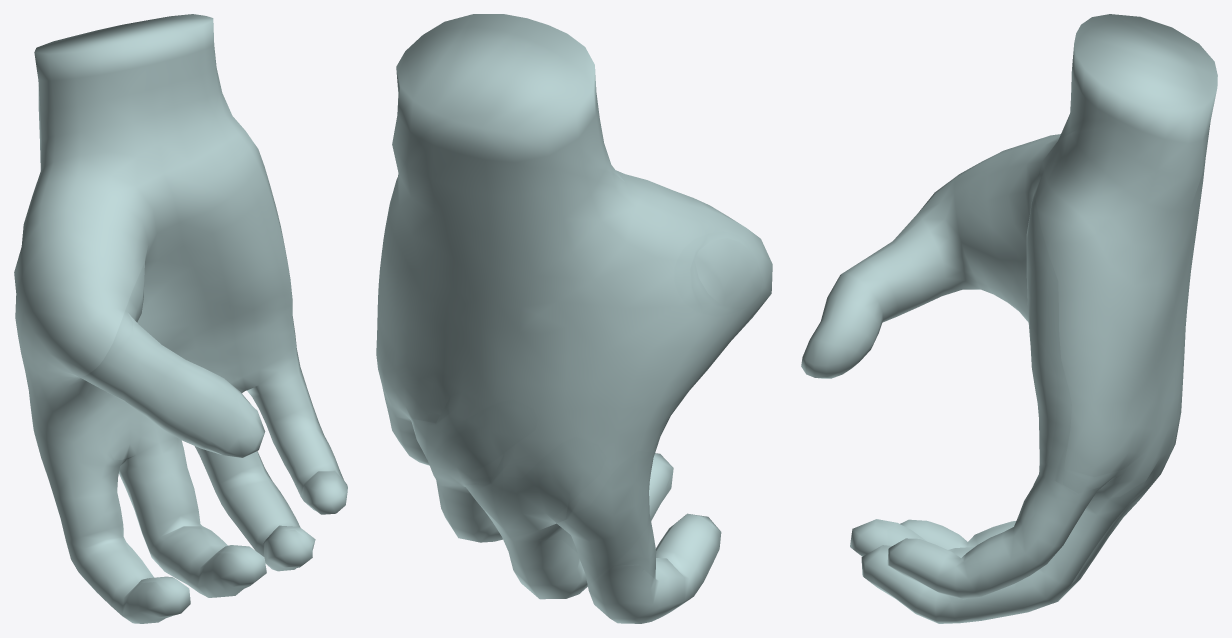
Rendered from Squeez.fbx.
The picture shows the model from 3 angles, left to right: view 1: azimuth 30°, elevation 25°; view 2: azimuth 150°, elevation 25°; view 3: azimuth 270°, elevation 25°; orthographic projection. The views are drawn at different scales.
Parts seen in each view (by area): view 1: r_handMeshNode_geometry; view 2: r_handMeshNode_geometry; view 3: r_handMeshNode_geometry.
Boxes of the visible parts, x1,y1,x2,y2 form: r_handMeshNode_geometry: (14, 14, 347, 623); r_handMeshNode_geometry: (376, 14, 772, 623); r_handMeshNode_geometry: (801, 14, 1217, 623).
Size of the model in its own units: 955 by 1655 by 1074.
